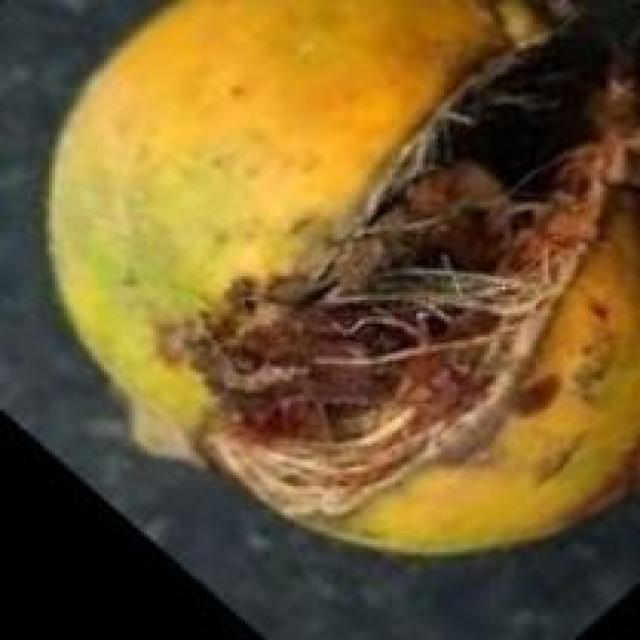damaged: (46, 0, 637, 563)
